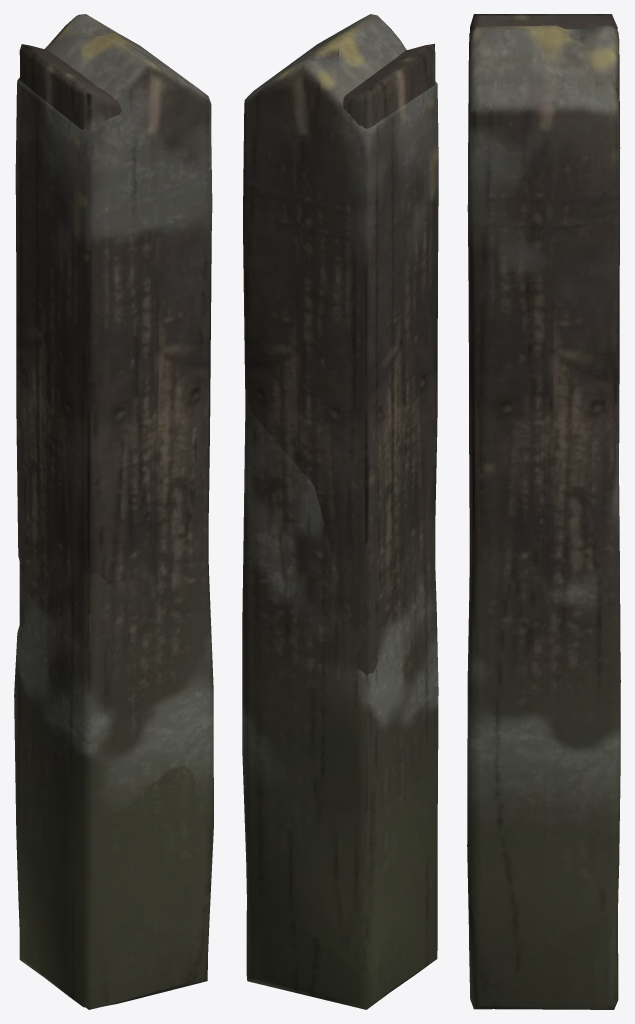
File: post.glb
3 renders of one model, left to right at view 1: azimuth 30°, elevation 25°; view 2: azimuth 150°, elevation 25°; view 3: azimuth 270°, elevation 25°, orthographic. The views are drawn at different scales.
Visible parts, largest first — view 1: post_a, post_b; view 2: post_a, post_b; view 3: post_a, post_b.
Boxes of the visible parts, left/top/right/bottom form: post_a: left=15, top=14, right=212, bottom=1009; post_b: left=14, top=44, right=213, bottom=1008; post_a: left=243, top=14, right=438, bottom=1009; post_b: left=242, top=43, right=438, bottom=997; post_a: left=467, top=25, right=620, bottom=1009; post_b: left=467, top=14, right=620, bottom=1009.
Bounding box in the file's own units: 0.103 × 0.7055 × 0.1031.
1 material, 1 textured.
